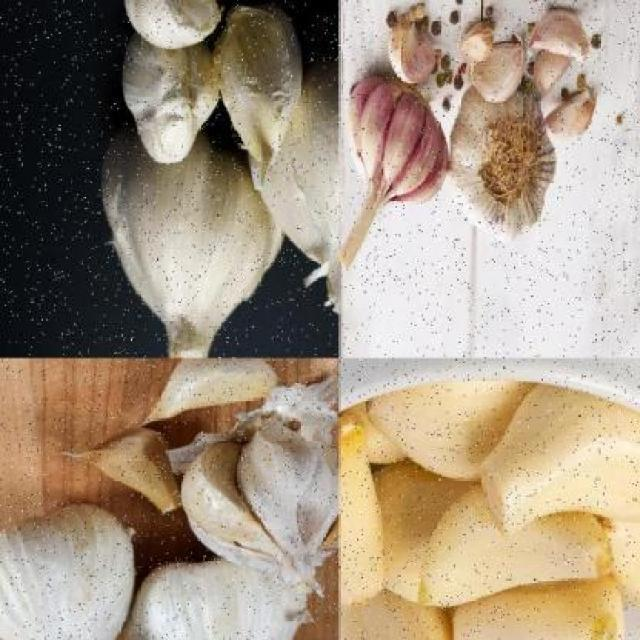garlic: (339, 366, 639, 640), (100, 130, 288, 358), (178, 416, 338, 590), (255, 14, 338, 320), (338, 73, 457, 270), (0, 494, 135, 639), (447, 80, 558, 242), (120, 554, 308, 638), (210, 7, 299, 170), (114, 39, 218, 159), (459, 10, 587, 101), (66, 426, 183, 512), (143, 358, 288, 418), (120, 0, 224, 52), (538, 86, 597, 146), (386, 20, 434, 86)
